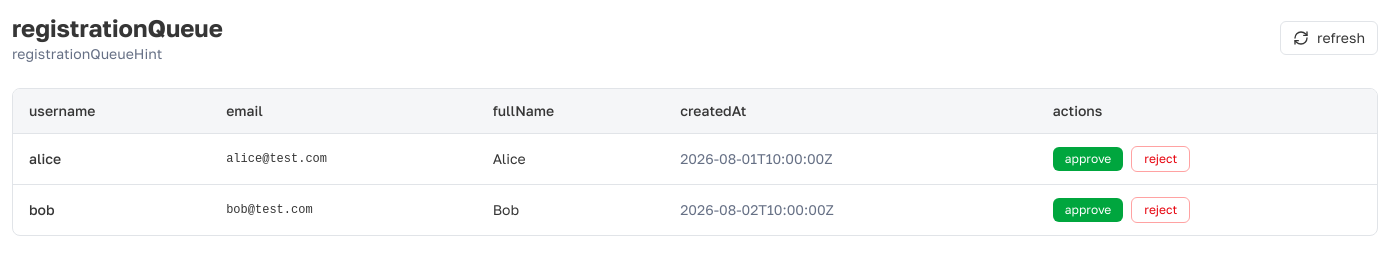
Test: RegistrationQueue.vue WO-REG-6 › criterion5: approve removes row from list
The image size is (1390, 253).
expect the number of rows with test id "registration-row" is 2: met, box [13, 134, 1377, 184]; [13, 184, 1377, 235]
Click the button with test id "registration-approve" in the row of "alice@test.com": (1088, 159) [1053, 147, 1123, 171]
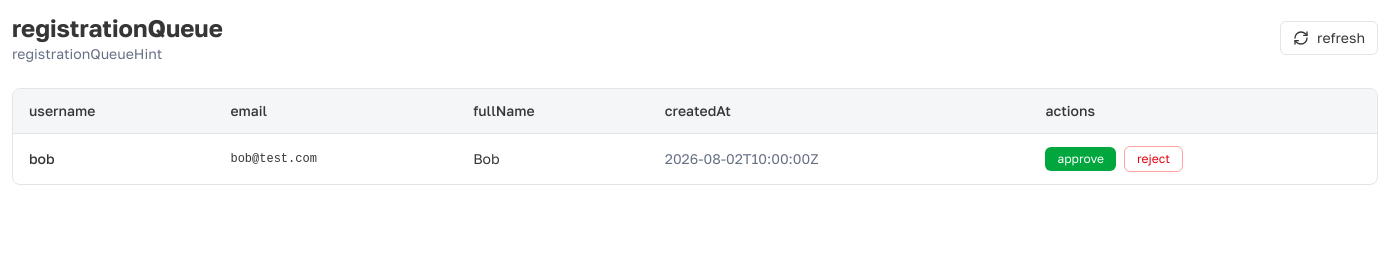
expect the text "bob@test.com" is shown: met, box [214, 134, 457, 184]
expect the text "alice@test.com" is gone: met
